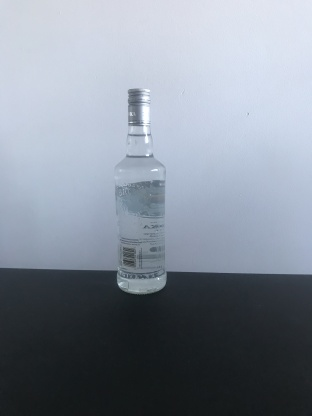nakretka: (126, 86, 152, 128)
